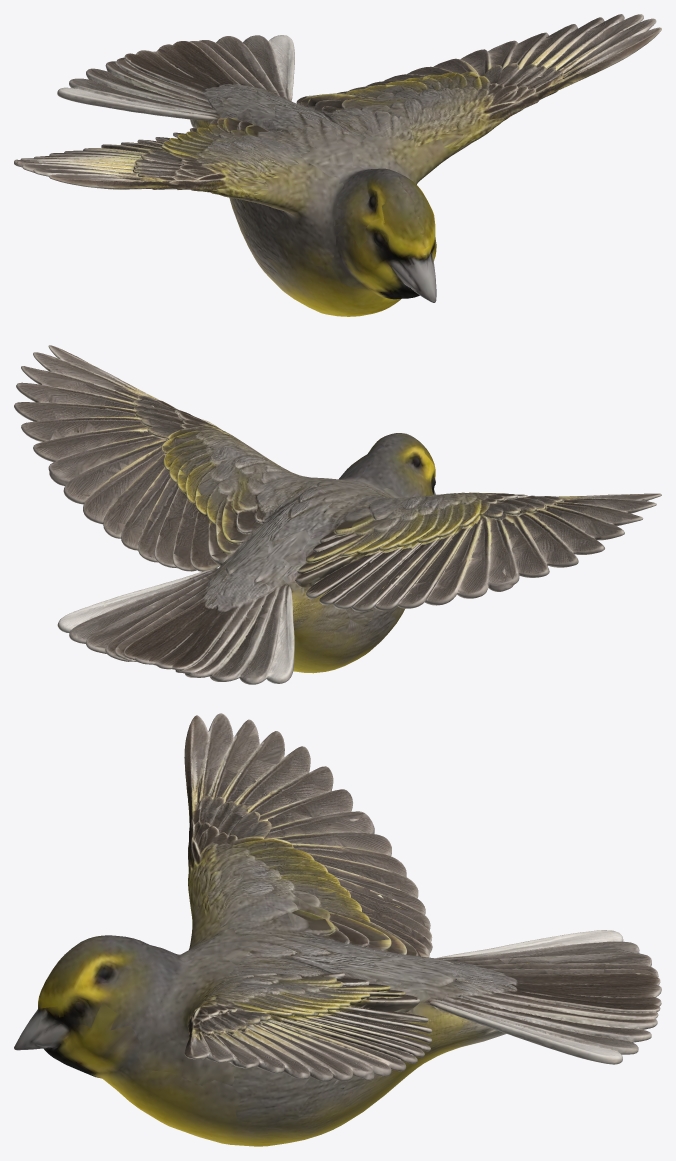
File: Melanodera_xanthogramma.glb
3 views of the same model, one above another, from view 1: azimuth 30°, elevation 25°; view 2: azimuth 150°, elevation 25°; view 3: azimuth 270°, elevation 25° (orthographic). The views are drawn at different scales.
Parts seen in each view (by area): view 1: orient; view 2: orient; view 3: orient.
Part boxes in pixels (x1,y1,x2,y2): orient: (14,14,661,316); orient: (14,345,661,684); orient: (14,713,661,1146).
Bounding box in the file's own units: 0.5 × 0.1709 × 0.3941.
1 material, 1 textured.
